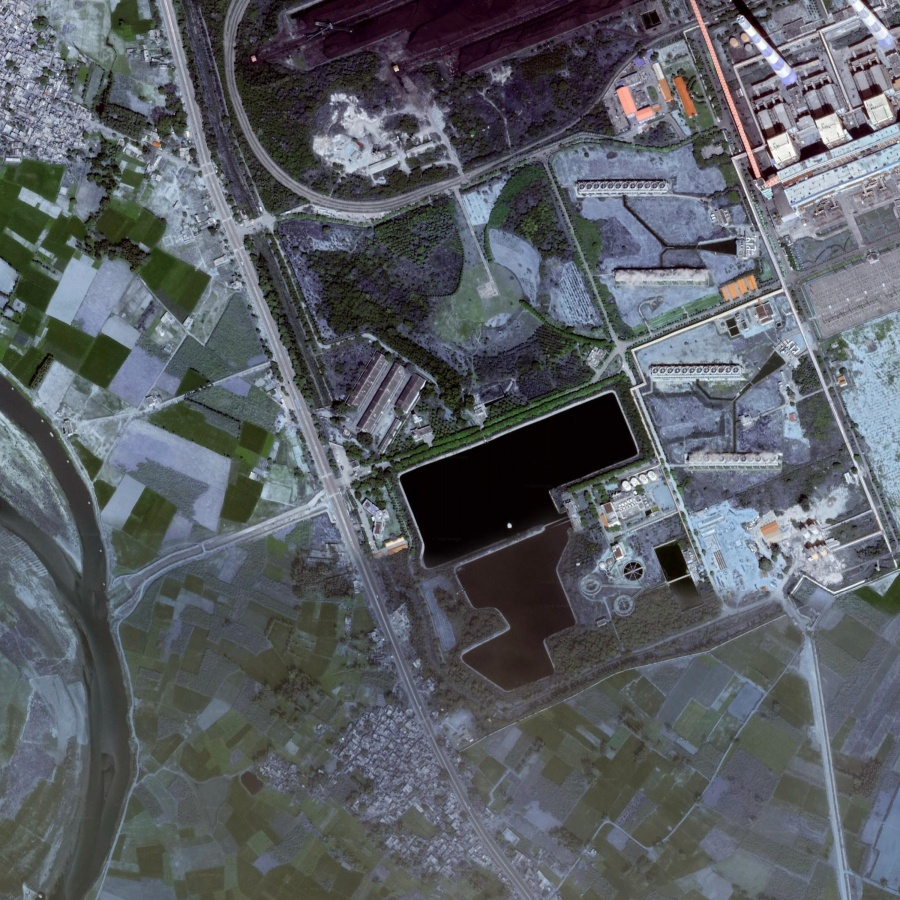PowerPlant: (379, 383, 649, 611)
